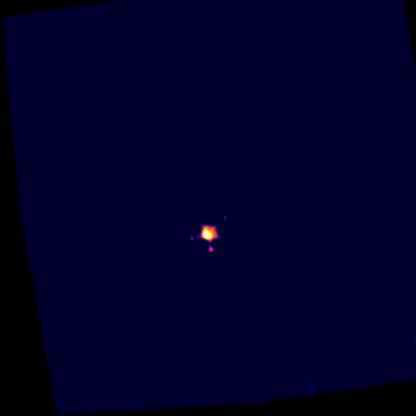drone: (180, 213, 227, 257)
